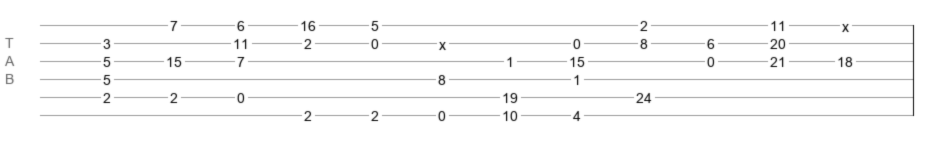0: (237, 90, 245, 100), (371, 36, 379, 46), (438, 108, 446, 118), (573, 36, 581, 46), (707, 54, 715, 64)
1: (506, 54, 514, 64), (573, 72, 581, 82)
10: (502, 108, 518, 118)
11: (233, 36, 249, 46), (770, 18, 786, 28)
15: (166, 54, 182, 64), (569, 54, 585, 64)
16: (300, 18, 316, 28)
18: (837, 54, 853, 64)
19: (502, 90, 518, 100)
2: (103, 90, 111, 100), (170, 90, 178, 100), (304, 36, 312, 46), (304, 108, 312, 118), (371, 108, 379, 118), (640, 18, 648, 28)
20: (770, 36, 786, 46)
21: (770, 54, 786, 64)
24: (636, 90, 652, 100)
3: (103, 36, 111, 46)
4: (573, 108, 581, 118)
5: (103, 54, 111, 64), (103, 72, 111, 82), (371, 18, 379, 28)
6: (237, 18, 245, 28), (707, 36, 715, 46)
7: (170, 18, 178, 28), (237, 54, 245, 64)
8: (438, 72, 446, 82), (640, 36, 648, 46)
x: (439, 37, 446, 45), (842, 19, 849, 27)
